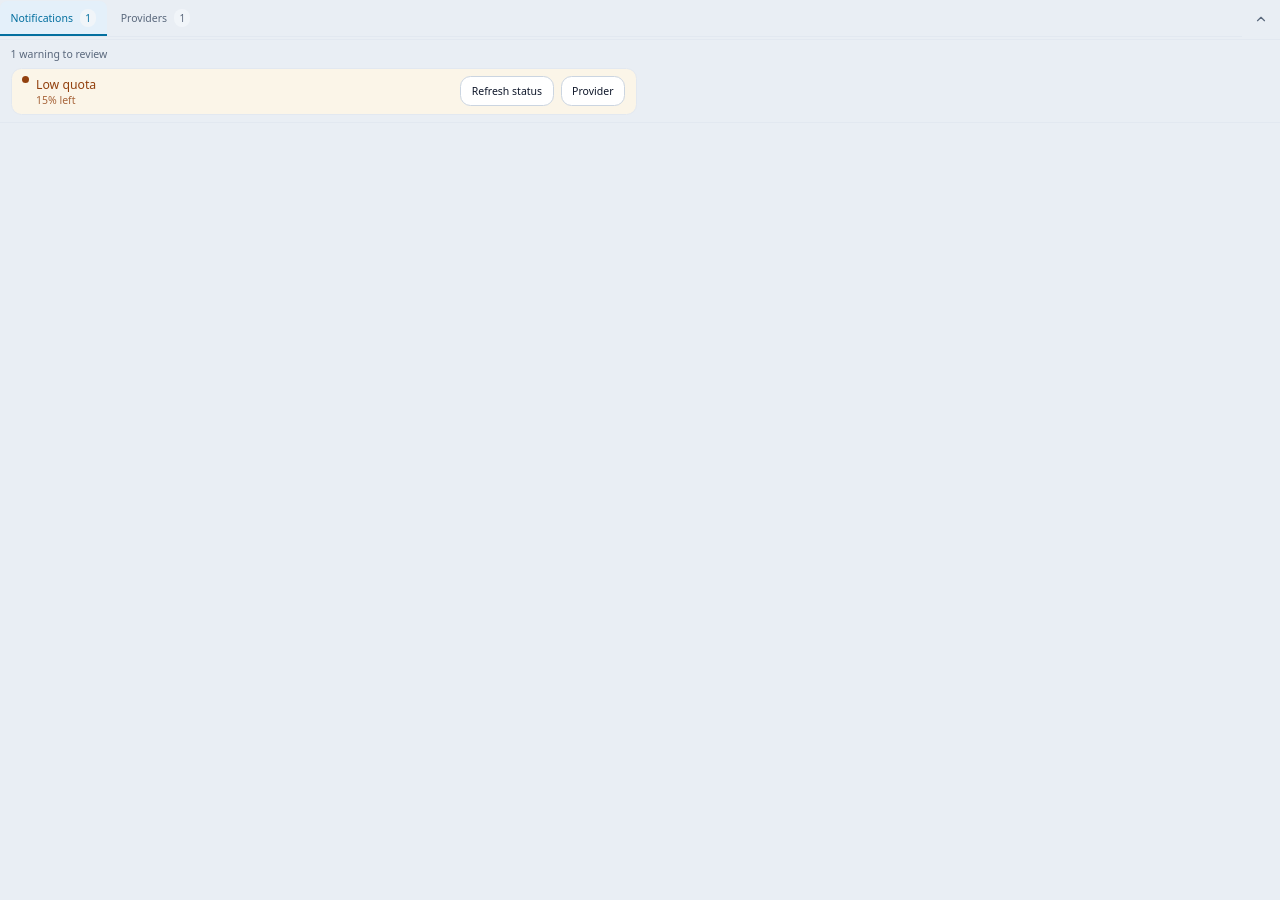
compact dashboard health strip › defaults to Notifications and switches to Providers
expect the text "Low quota" is shown: met, box [36,76,96,93]
Click the tab "Providers 1": (156, 19) [110,1,201,36]
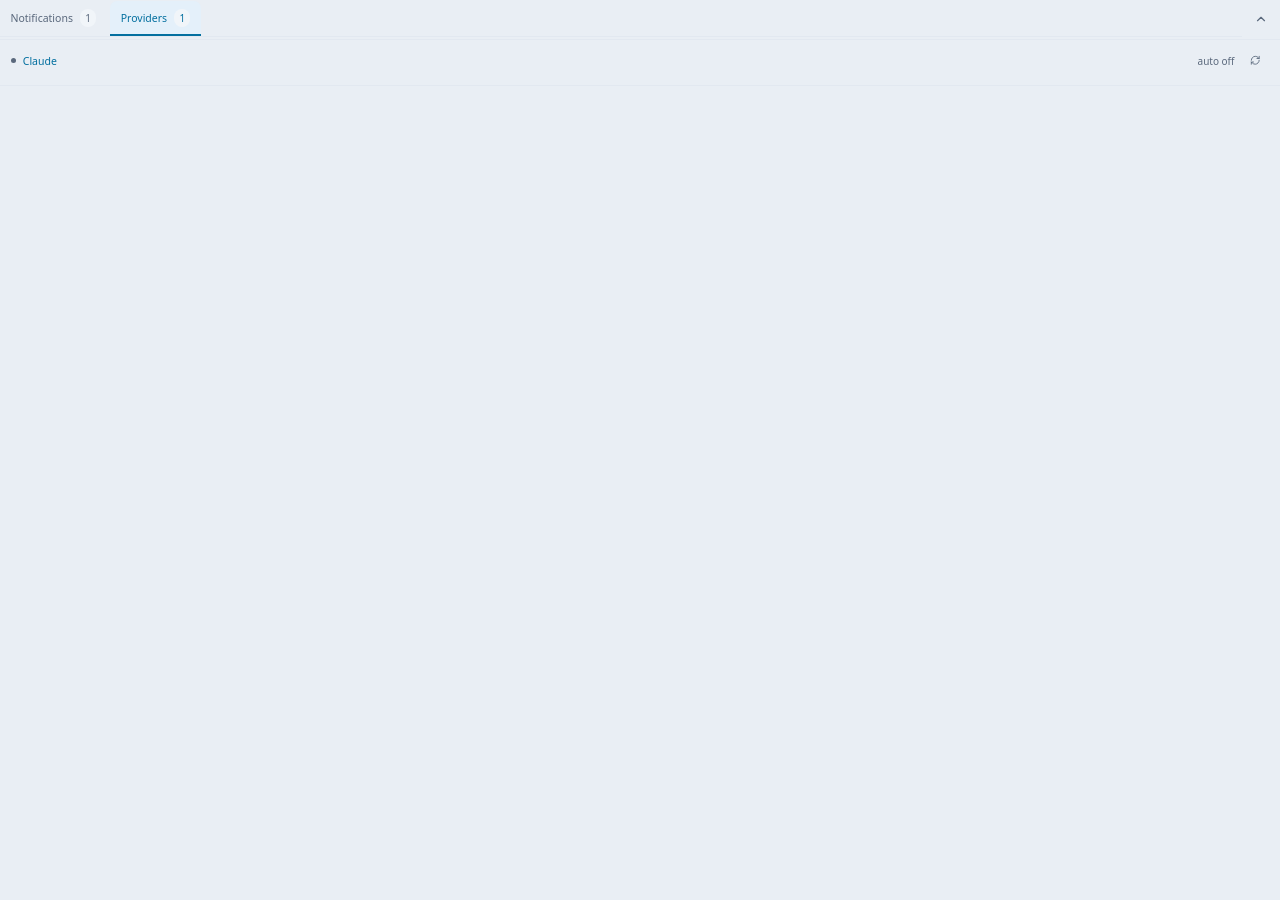
expect the link "Claude" is shown: met, box [23,54,57,68]
